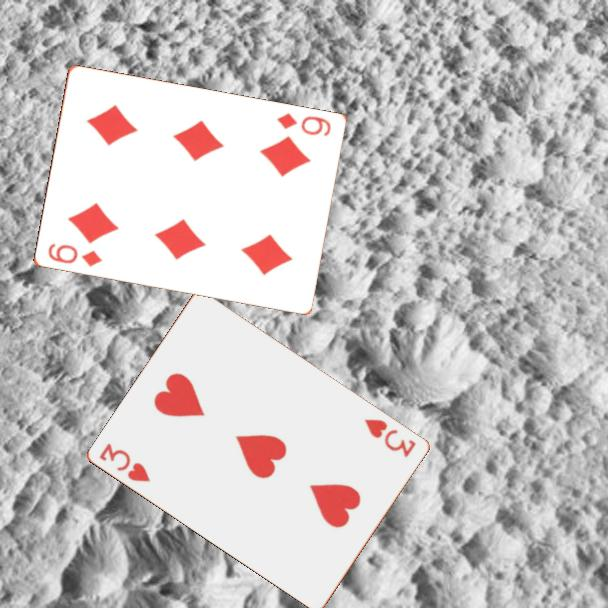d06: (44, 240, 105, 270), (273, 109, 333, 139)
h03: (96, 439, 154, 485), (361, 415, 419, 460)
